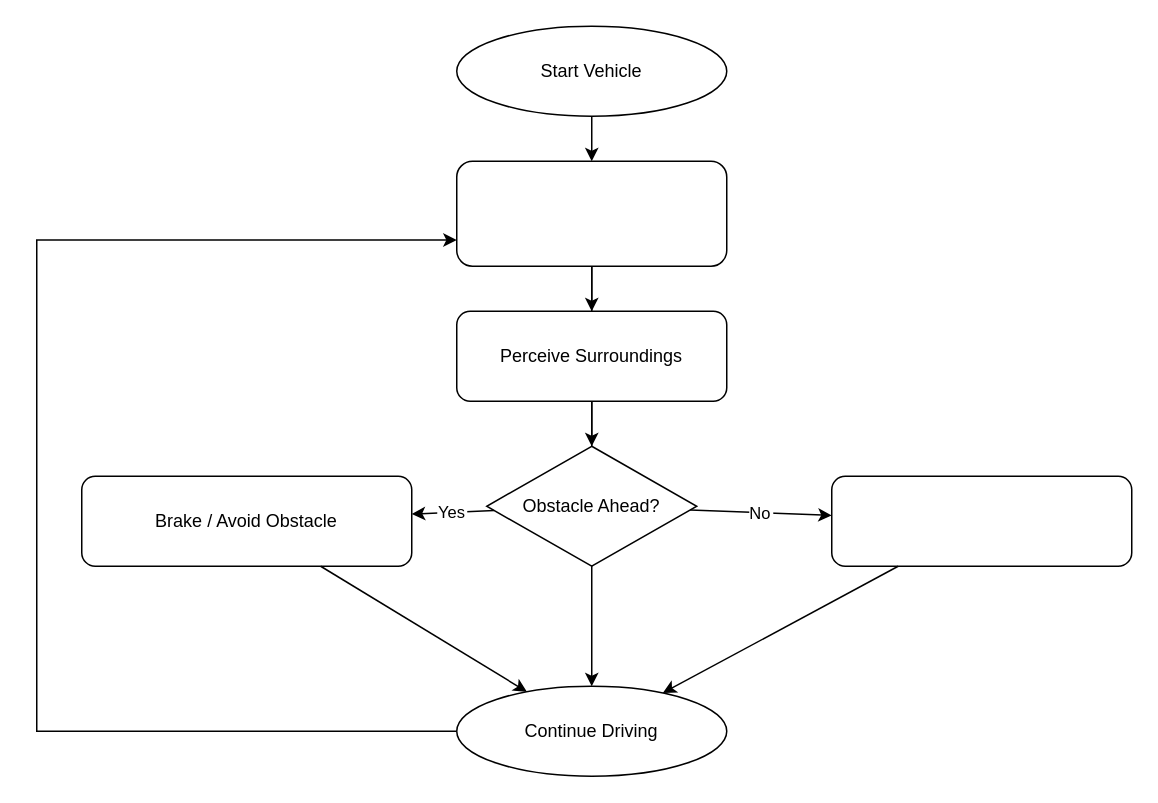
Image size: 1158x803. Some labels were removed from this diagram. Here are the shapes that lost their labels. From the top down, the centre of each, then its label:
At point (591, 213): "Sense Environment (Sensors)".
At point (981, 520): "Plan Path & Move".
